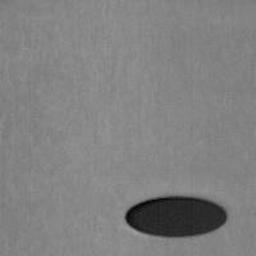Punching: (125, 197, 227, 237)
